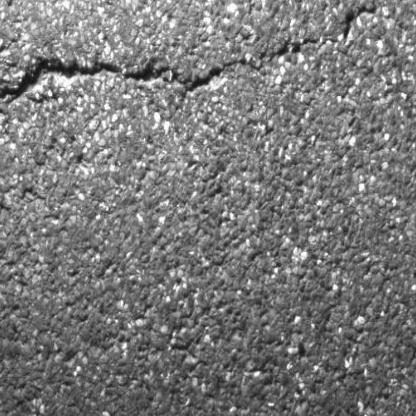Cracks: (0, 0, 392, 123)
